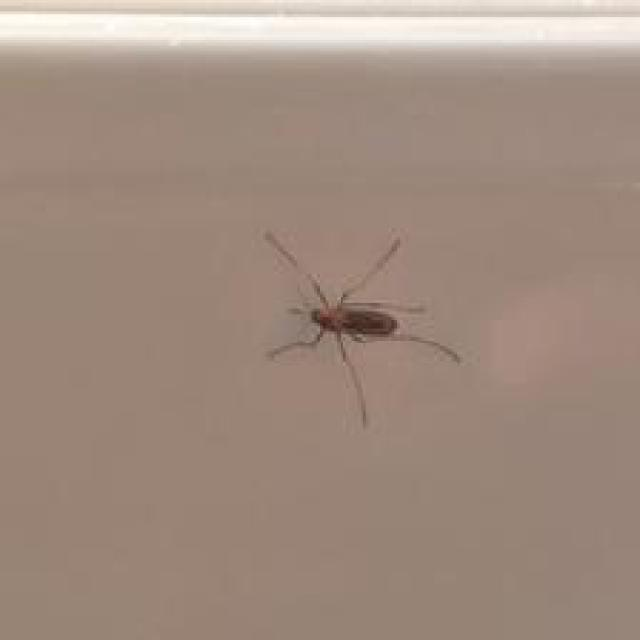Culex: (262, 226, 462, 428)
